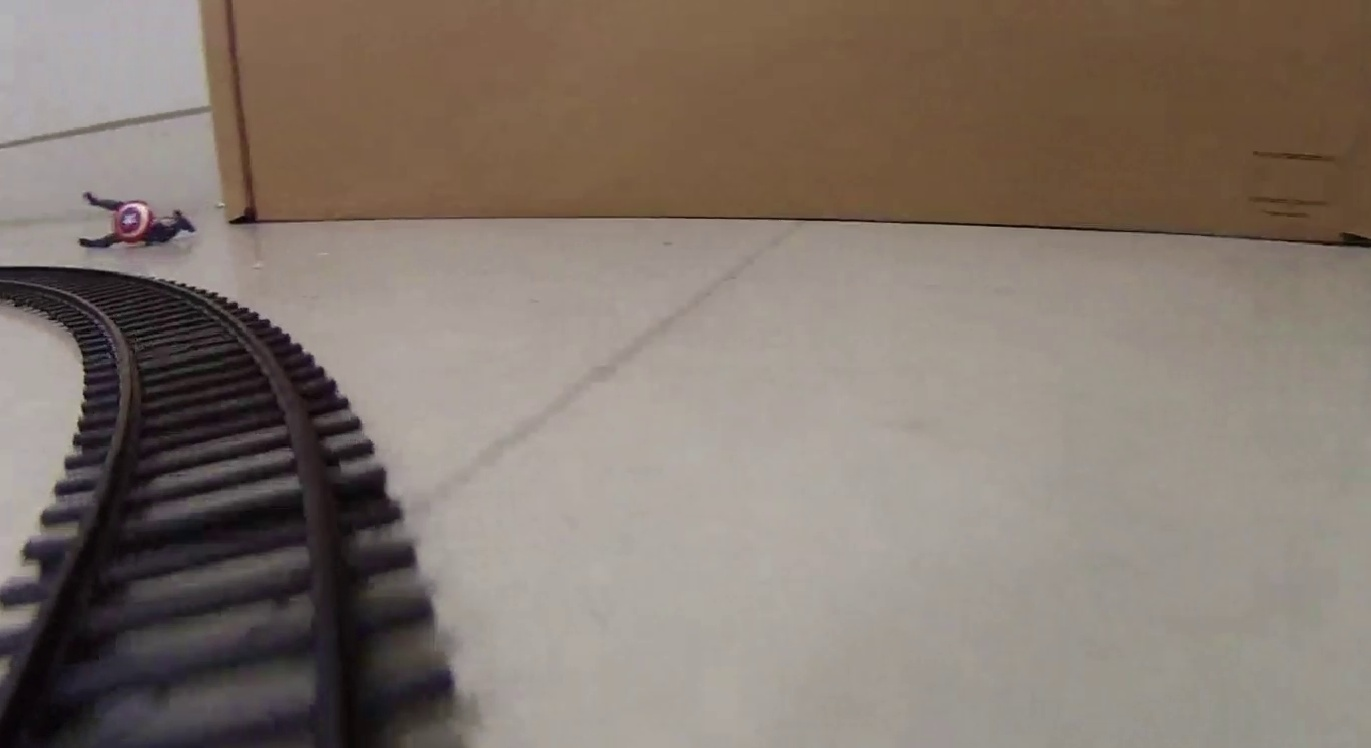people: (76, 190, 196, 253)
